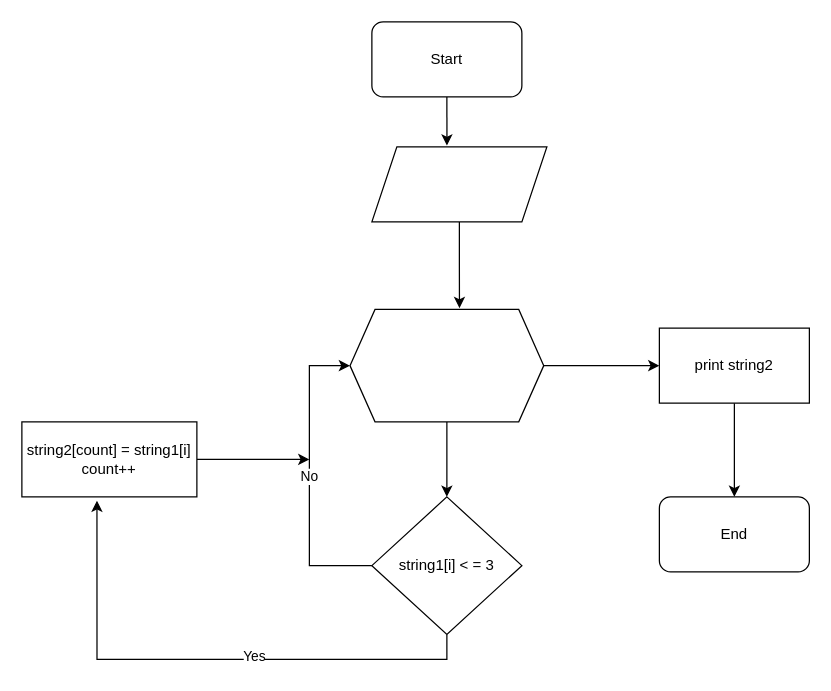
Image size: 831x691. Some labels were removed from this diagram. Each missing label, with the centre of its shape:
"for (int i = 0; i < string1.Length; i++" belongs at (x=446, y=365).
"string1[] string2[] count=0" belongs at (x=459, y=184).
